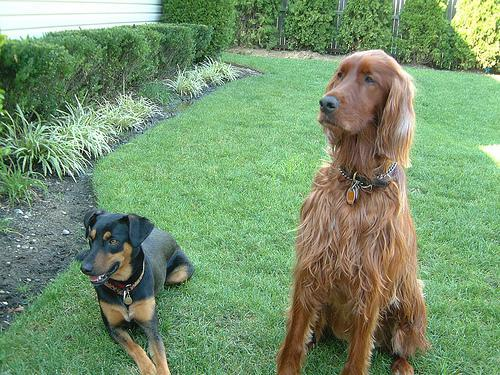Irish_setter: (271, 48, 429, 374)
